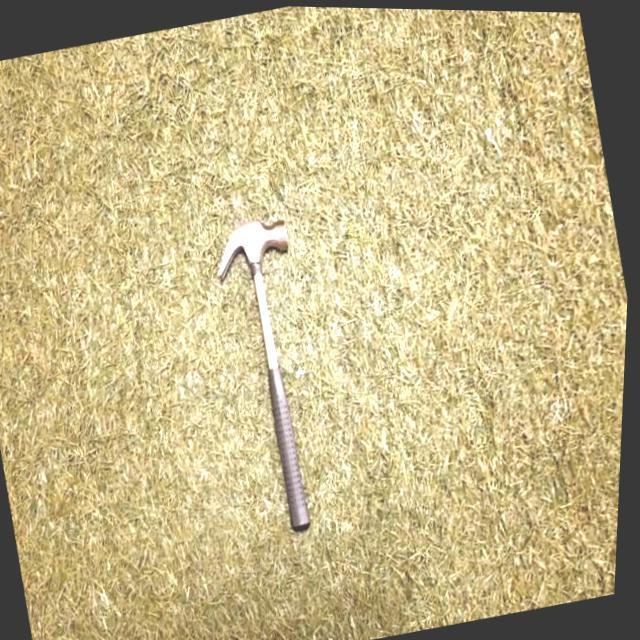hammer: (193, 210, 362, 538)
